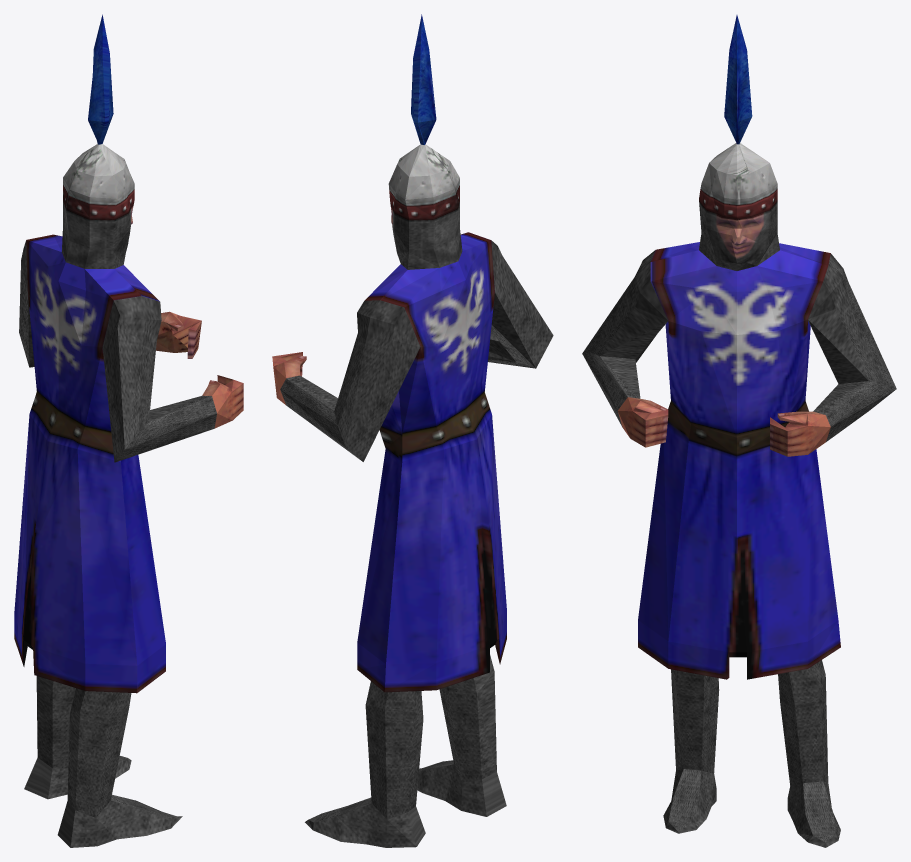
The model's file is guard_stand.obj.
3 renders of one model, left to right at view 1: azimuth 30°, elevation 25°; view 2: azimuth 150°, elevation 25°; view 3: azimuth 270°, elevation 25°, orthographic.
Parts seen in each view (by area): view 1: Object_1; view 2: Object_1; view 3: Object_1.
Part boxes in pixels (<box>): Object_1: <box>14,14,243,847</box>; Object_1: <box>272,14,553,847</box>; Object_1: <box>582,15,896,847</box>.
Size of the model in its own units: 0.5806 by 2.24 by 0.7973.
Materials: 1 (1 with a texture image).
